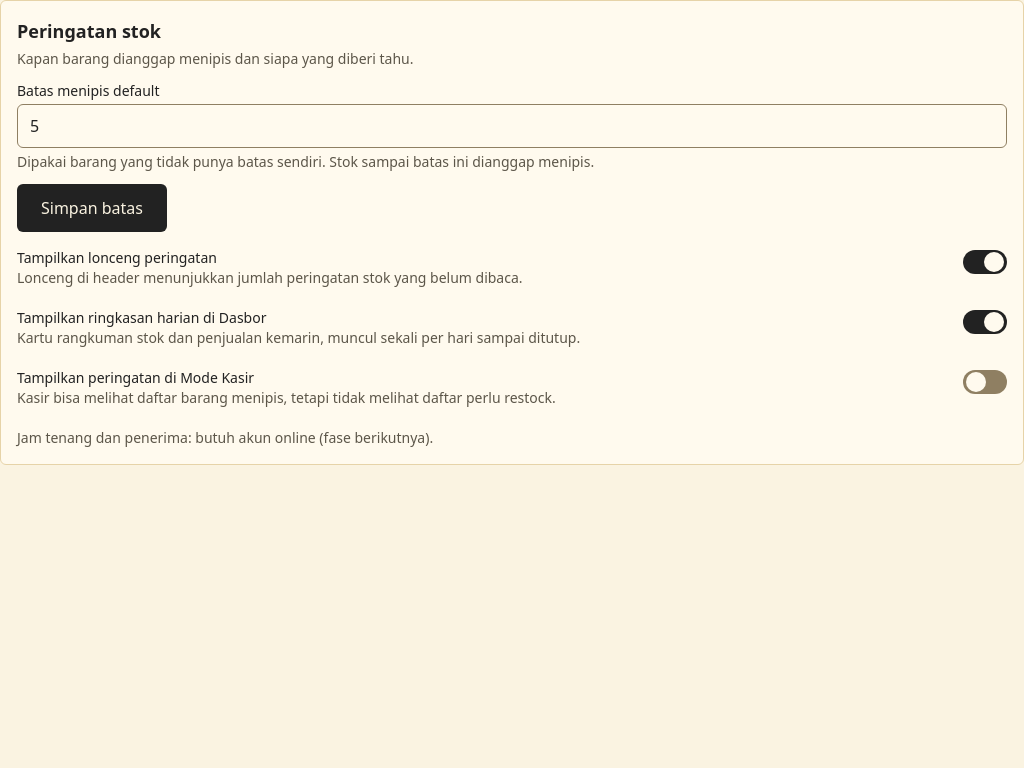
pengaturan peringatan stok › menyimpan batas default 10: toast, peringatan baru terbuka, dan isian bersih
Replace the text in the field labelled "Batas menipis default" with "10": (512, 126) 17,104 -> 1007,148
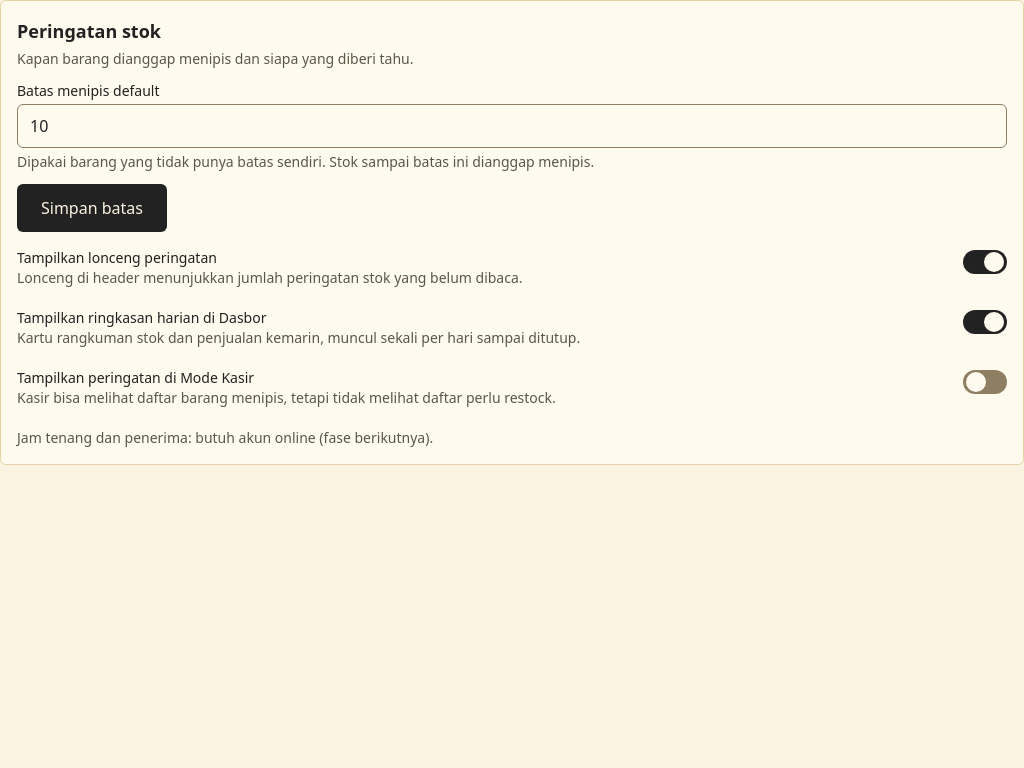
Click the button "Simpan batas": (92, 208) 17,184 -> 167,232
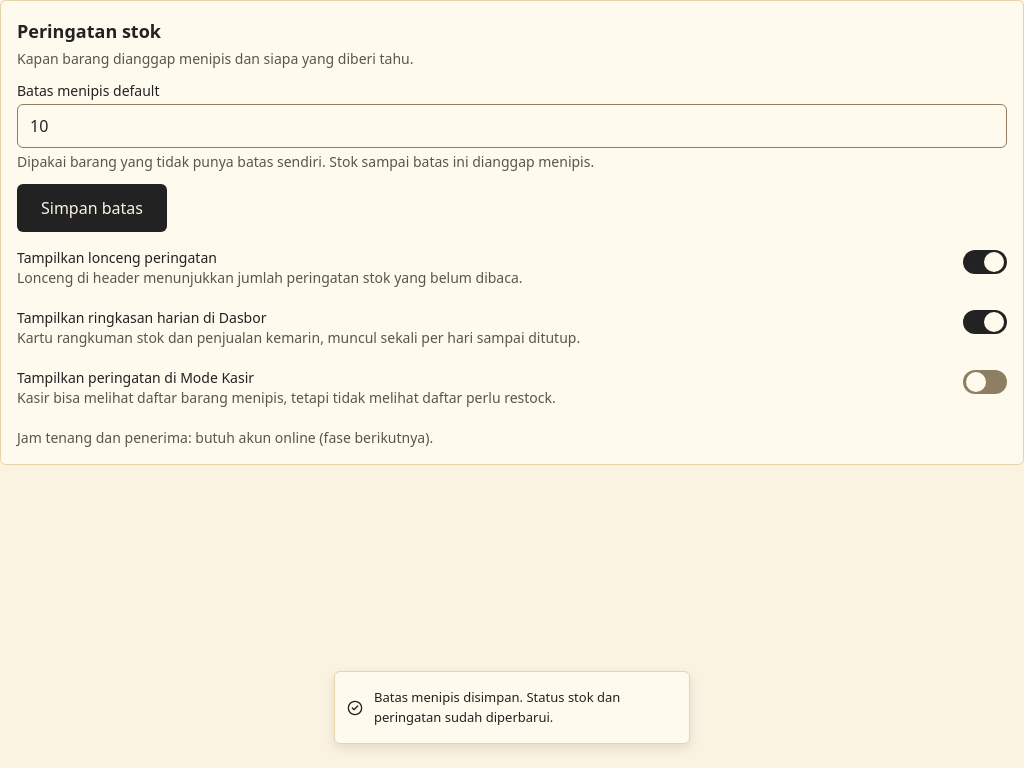
Expected: the text "Batas menipis disimpan. Status stok dan peringatan sudah diperbarui." is shown, 374,688 -> 620,726
